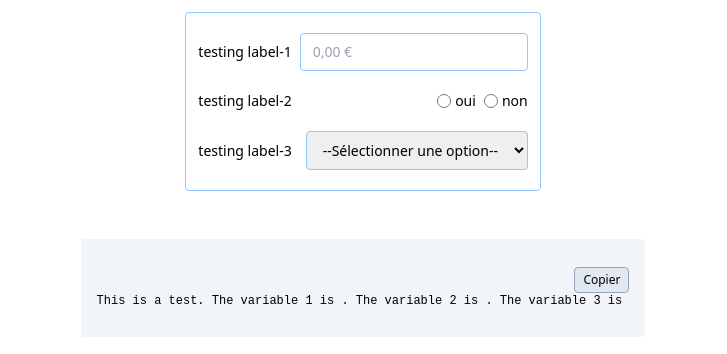
Test: EmailDisplay unit testing › input should work correctly
The image size is (727, 354).
Type "10000" into the field with placeholder "0,00 €". click: (414,52)
box: left=300, top=33, right=528, bottom=71
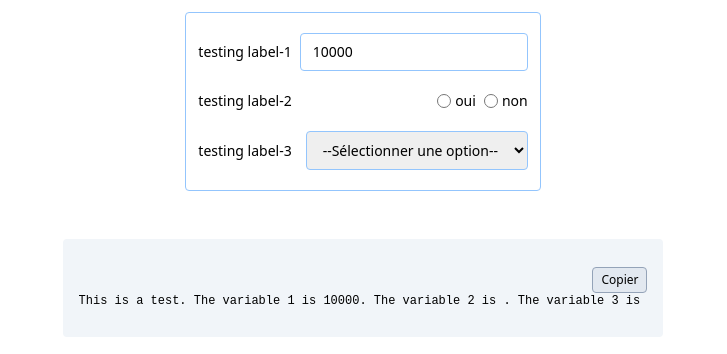
Click the radio button with test id "test-test2-oui". click: (444,101)
box: left=437, top=94, right=451, bottom=108
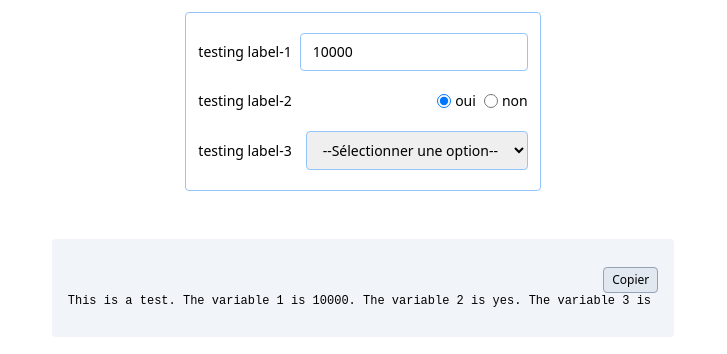
Result: the radio button with test id "test-test2-oui" is checked at left=437, top=94, right=451, bottom=108
Select "option one" in the dropdown with test id "test-test3". click: (417,150)
box: left=306, top=131, right=528, bottom=170
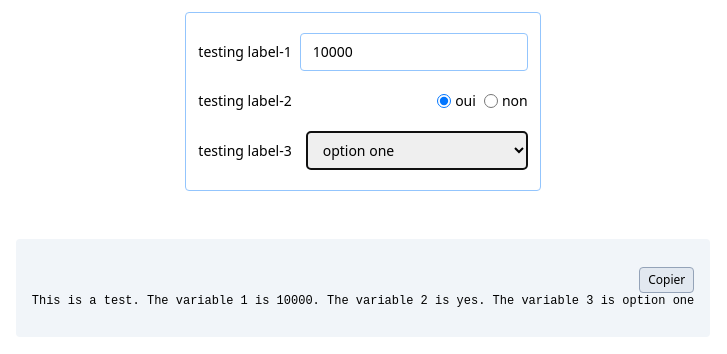
Result: the text "This is a test. The variable 1 is 10000. The variable 2 is yes. The variable 3 is option one" is shown at left=32, top=294, right=694, bottom=308
